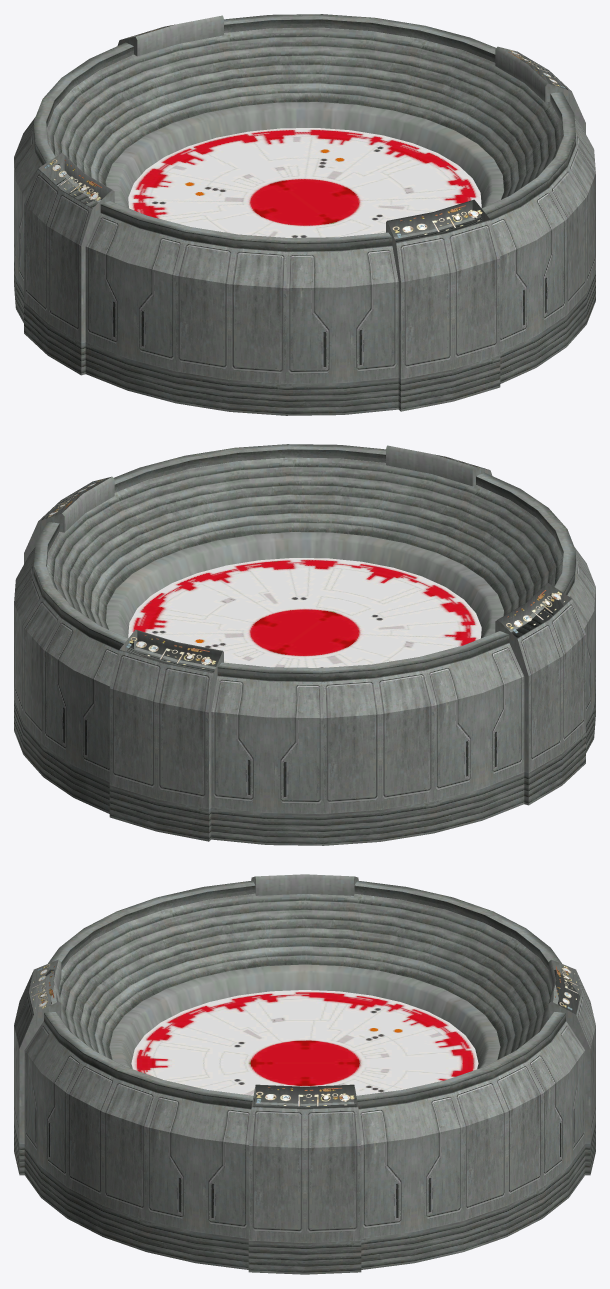
Rendered from frn_war_room_console.fbx.
3 views of the same model, one above another, from view 1: azimuth 30°, elevation 25°; view 2: azimuth 150°, elevation 25°; view 3: azimuth 270°, elevation 25° (orthographic). The views are drawn at different scales.
Parts seen in each view (by area): view 1: mesh_node; view 2: mesh_node; view 3: mesh_node.
Part boxes in pixels (x1=…): mesh_node: x1=14, y1=14, x2=595, y2=415; mesh_node: x1=14, y1=444, x2=595, y2=845; mesh_node: x1=14, y1=874, x2=595, y2=1274.
Size of the model in its own units: 3.28 by 1.06 by 3.28.
